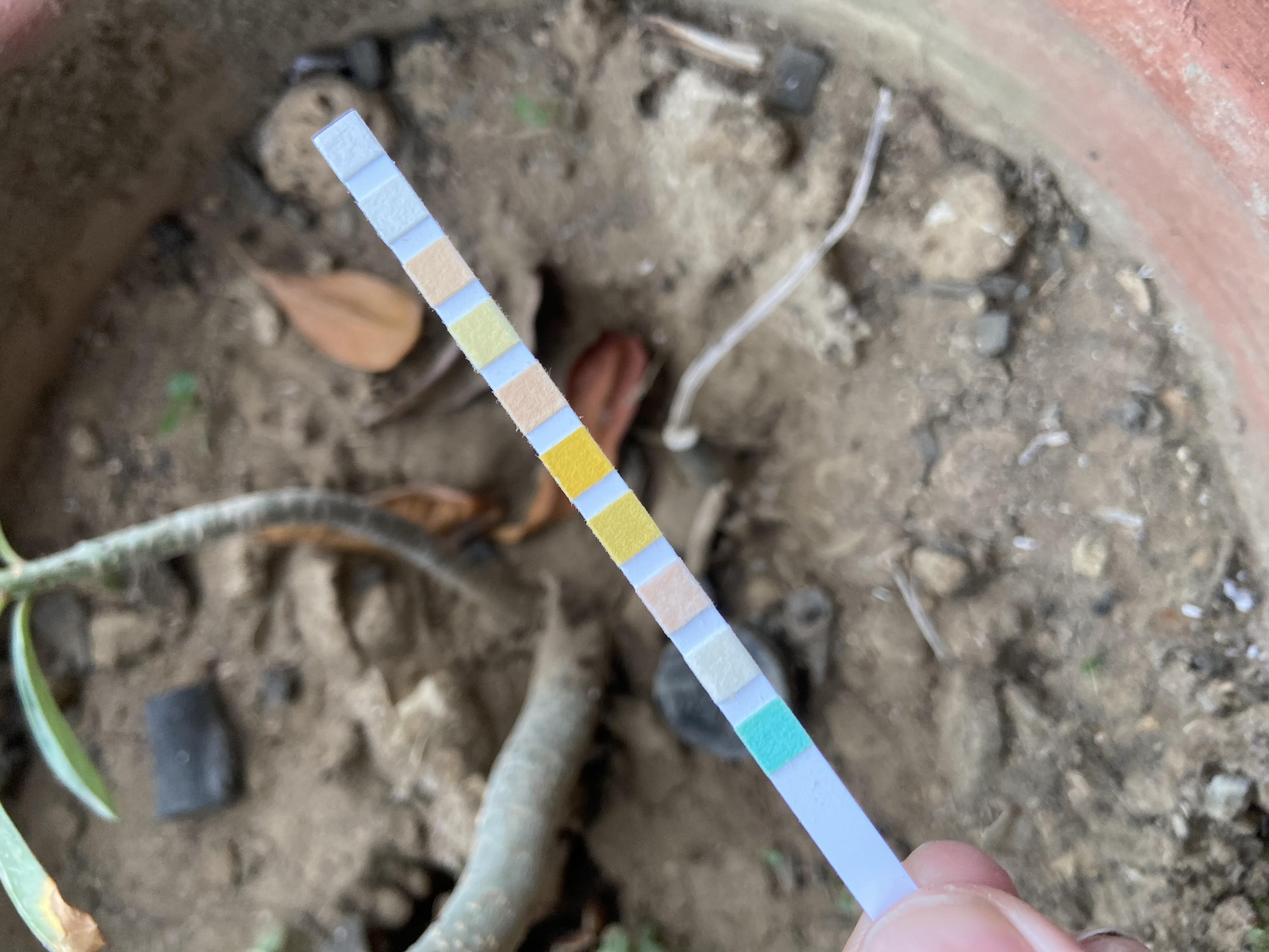Bilirubin: (704, 643, 739, 688)
Blood: (562, 442, 595, 483)
Glucose: (757, 714, 792, 760)
Ketone: (656, 577, 691, 619)
Leukocytes: (330, 127, 367, 165)
Nitrite: (379, 190, 412, 228)
Protein: (465, 315, 503, 353)
SpGravity: (607, 507, 642, 550)
Urobilinogen: (422, 252, 456, 289)
pH: (515, 377, 548, 418)
strip: (313, 110, 917, 920)
